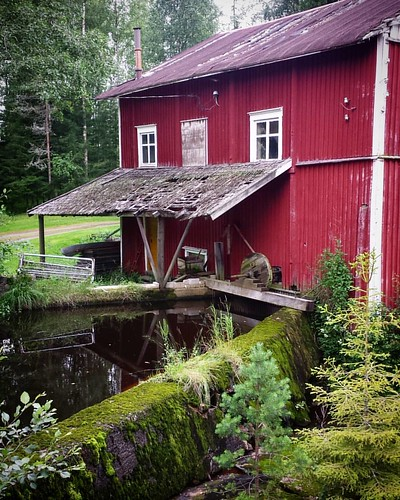building: (113, 1, 400, 299)
vegetation: (1, 1, 113, 184)
